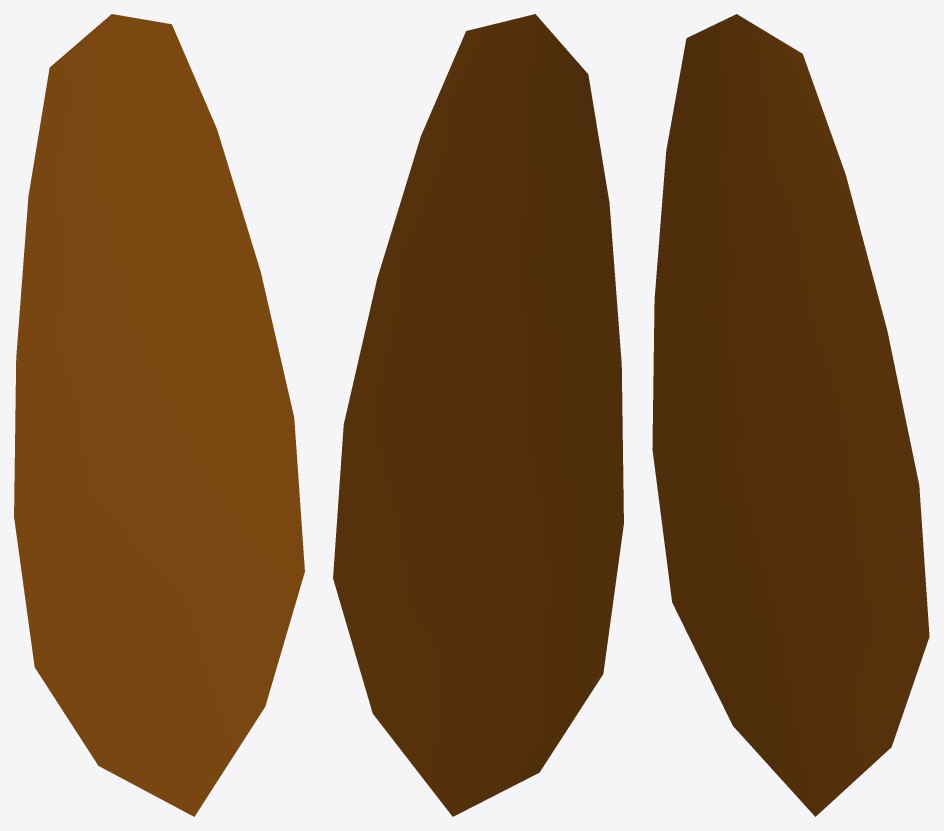
The model's file is ara_feather_flight_secondary_007.obj.
The picture shows the model from 3 angles, left to right: view 1: azimuth 30°, elevation 25°; view 2: azimuth 150°, elevation 25°; view 3: azimuth 330°, elevation 25°; orthographic projection. The views are drawn at different scales.
Visible parts, largest first — view 1: feather_flight_secondary_007; view 2: feather_flight_secondary_007; view 3: feather_flight_secondary_007.
Part boxes in pixels (x1,y1,x2,y2): feather_flight_secondary_007: [14, 14, 304, 816]; feather_flight_secondary_007: [333, 14, 623, 816]; feather_flight_secondary_007: [652, 14, 929, 816].
Bounding box in the file's own units: 0.0262 × 0.0708 × 0.000724.
